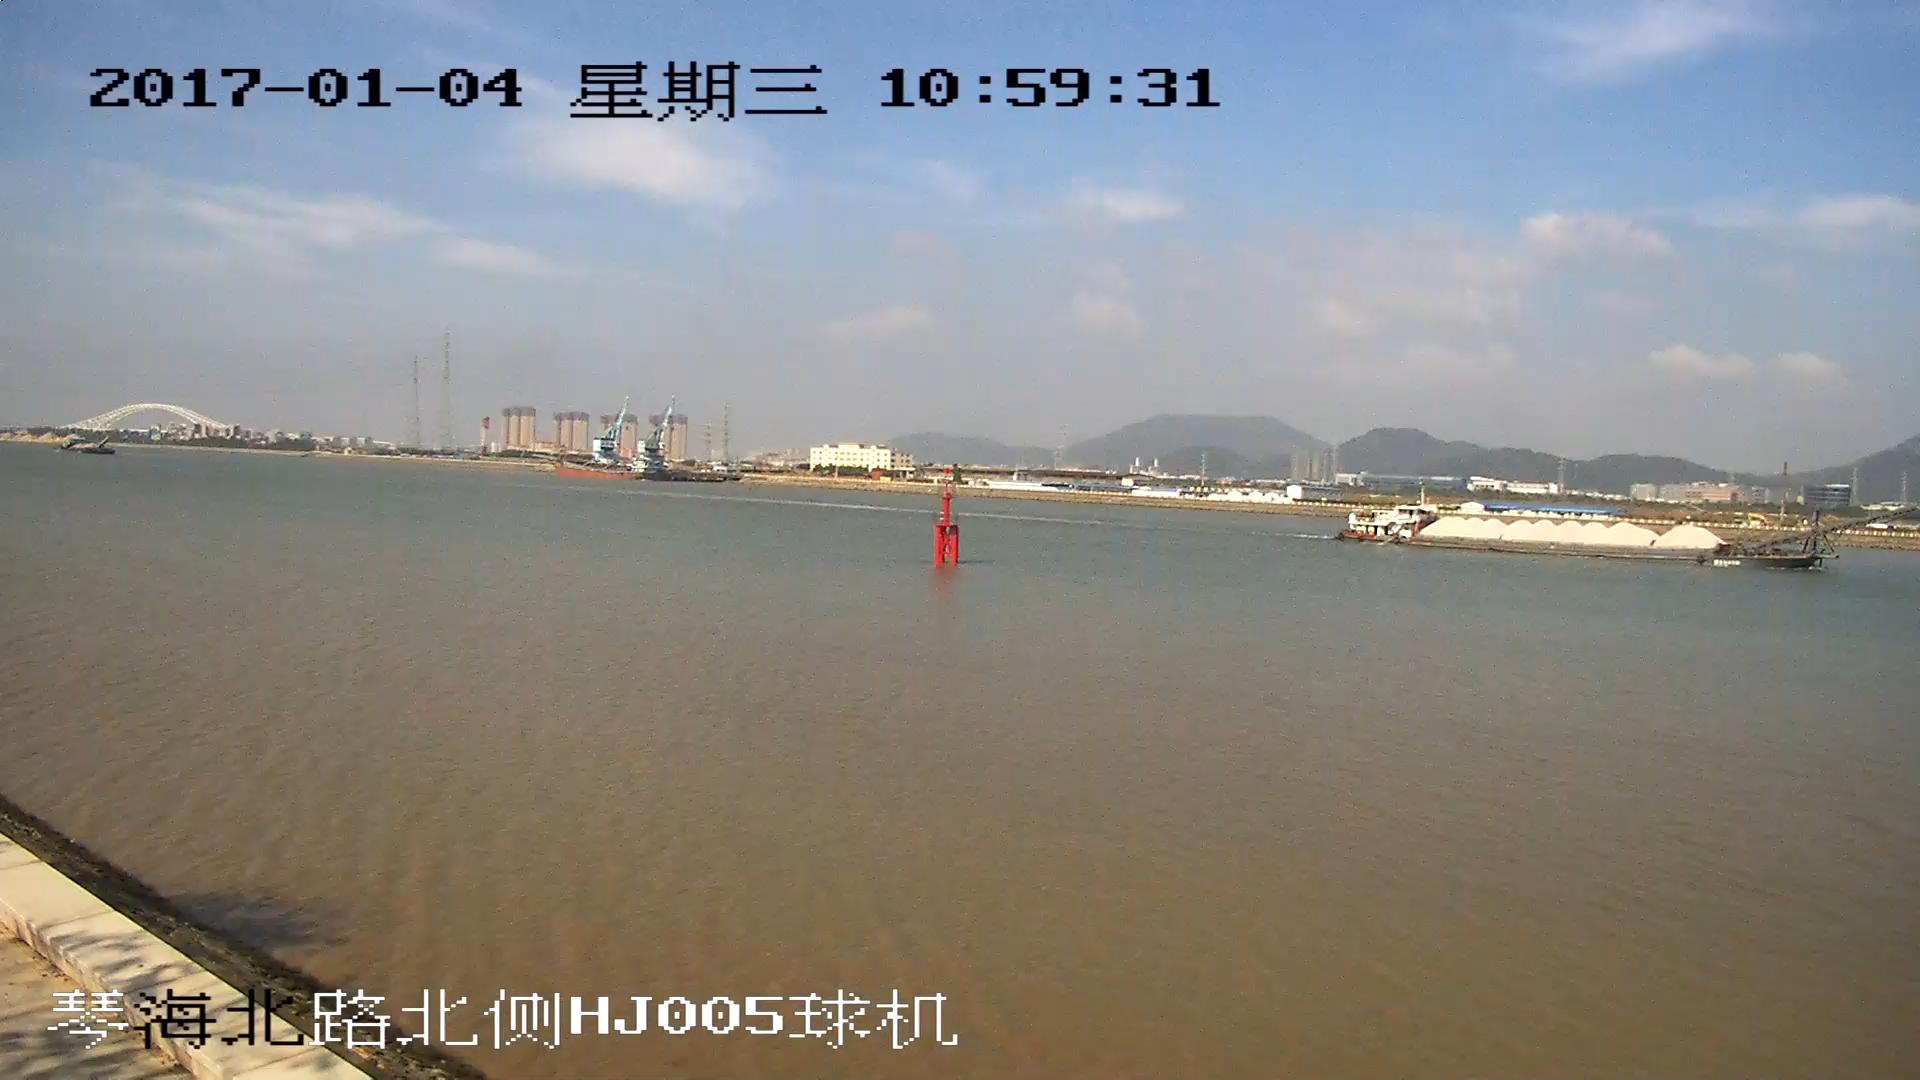ore carrier: (1346, 503, 1914, 565)
